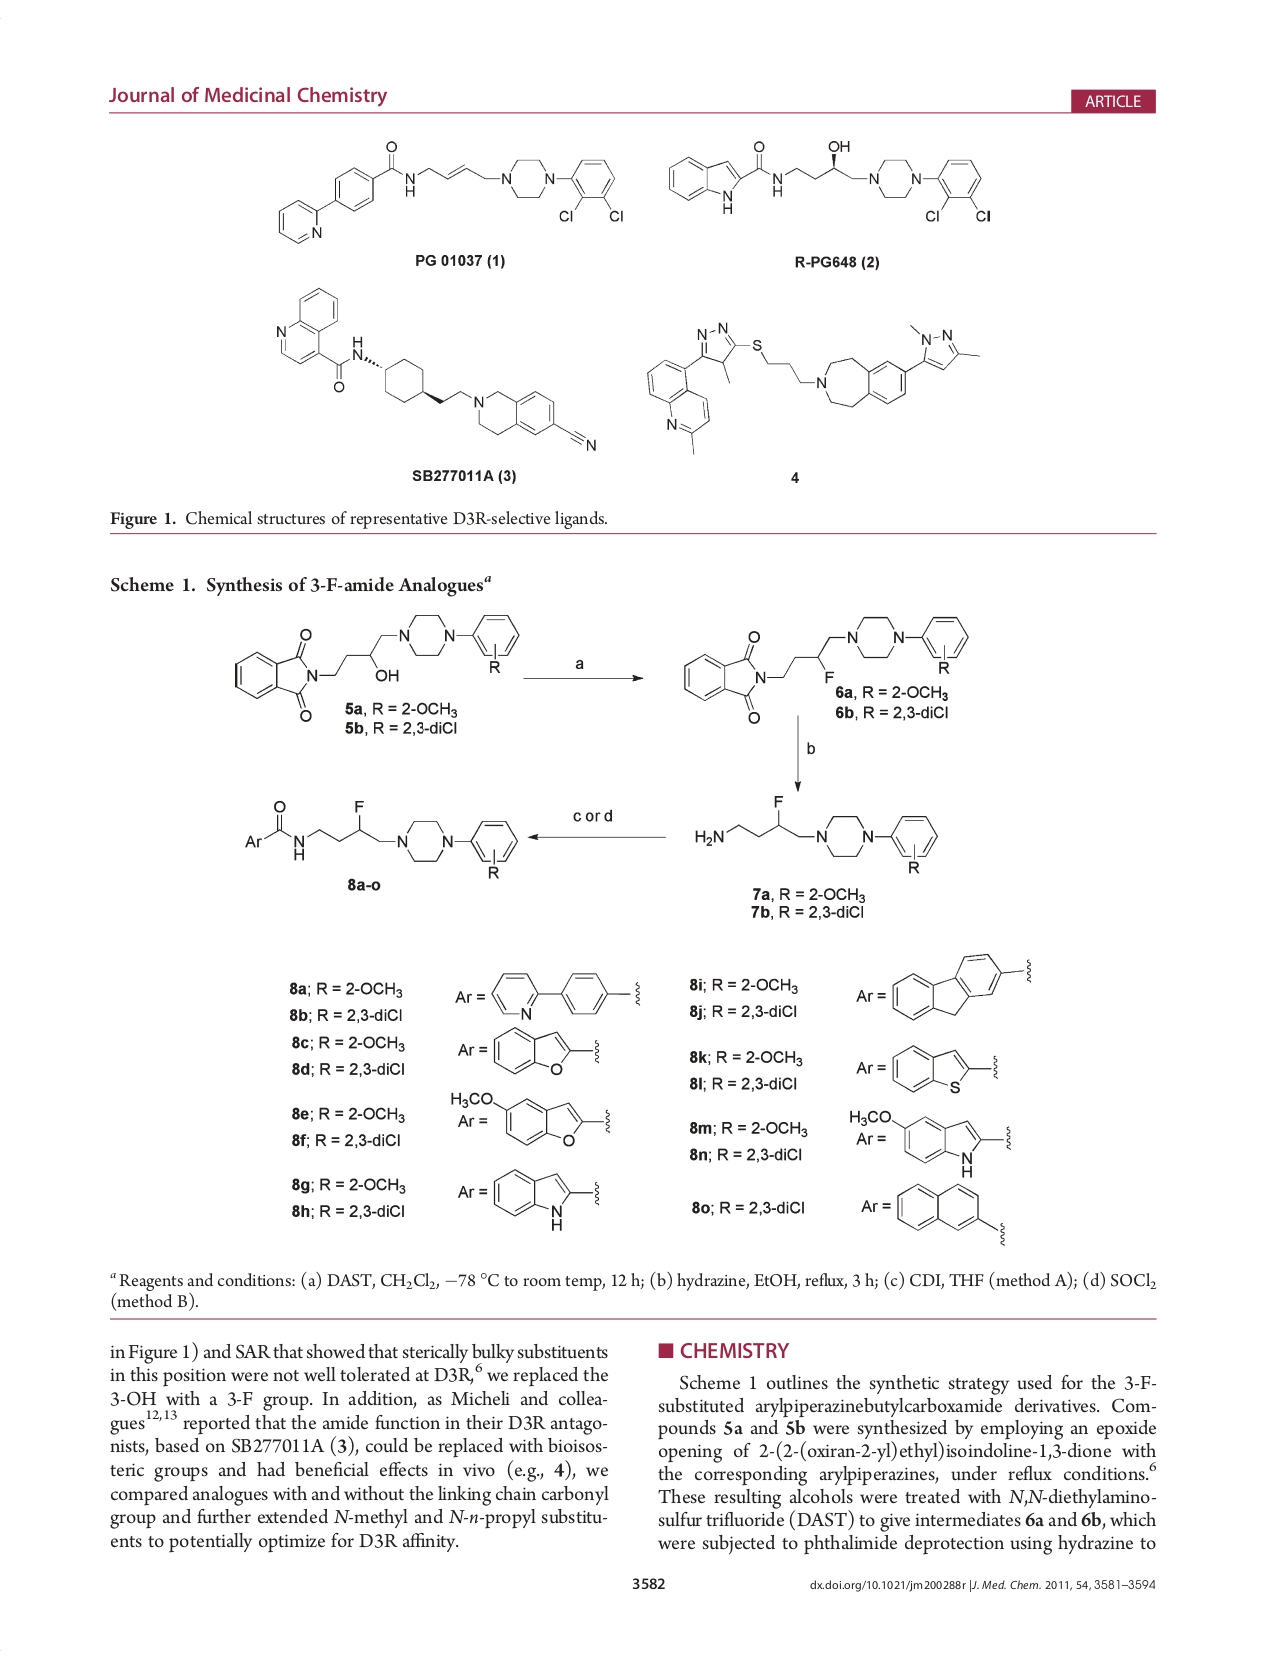exist_molecular: (273, 285, 602, 457), (645, 317, 981, 457), (275, 137, 626, 246), (678, 610, 973, 726), (231, 609, 520, 723), (661, 136, 995, 231), (243, 797, 523, 880), (693, 793, 943, 876), (847, 1105, 1015, 1178), (890, 946, 1039, 1024), (445, 1087, 616, 1150), (489, 967, 645, 1023), (489, 1164, 605, 1237), (894, 1180, 1009, 1251), (888, 1039, 1000, 1097), (489, 1024, 605, 1079)
